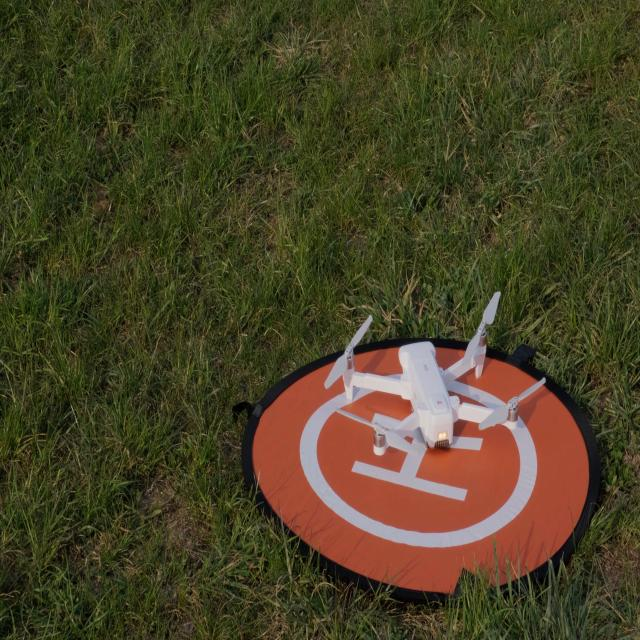drone: (324, 290, 546, 458)
